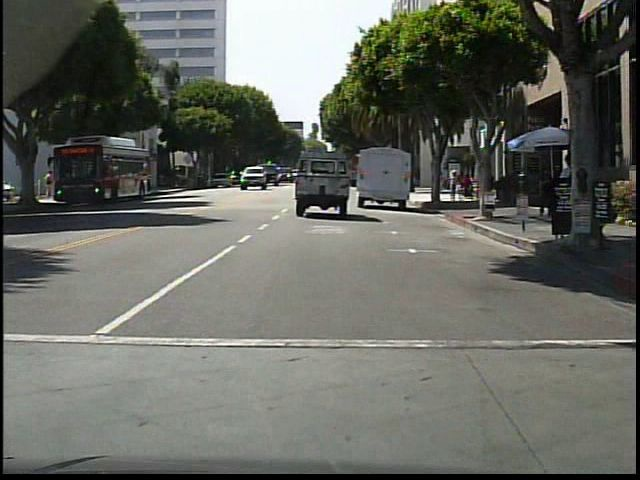person: (555, 152, 581, 233), (536, 168, 552, 219), (447, 170, 459, 203), (43, 170, 56, 198), (437, 167, 447, 203)
